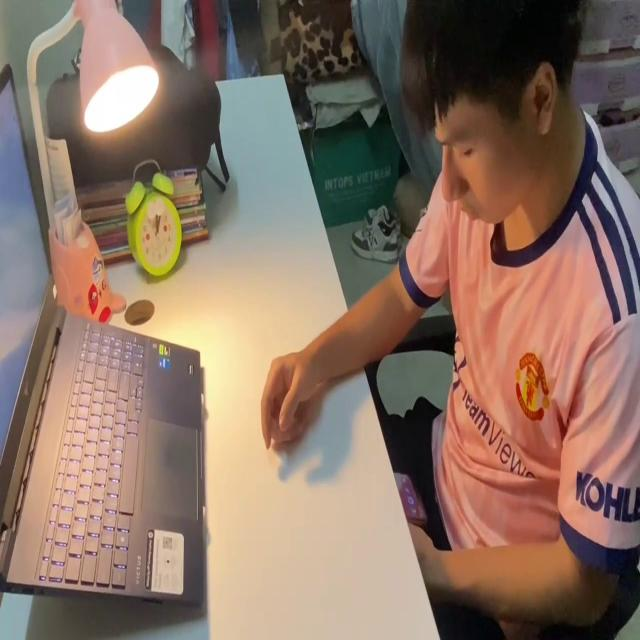laptop: (0, 59, 210, 613)
phone: (392, 465, 427, 527)
student: (259, 0, 640, 640)
